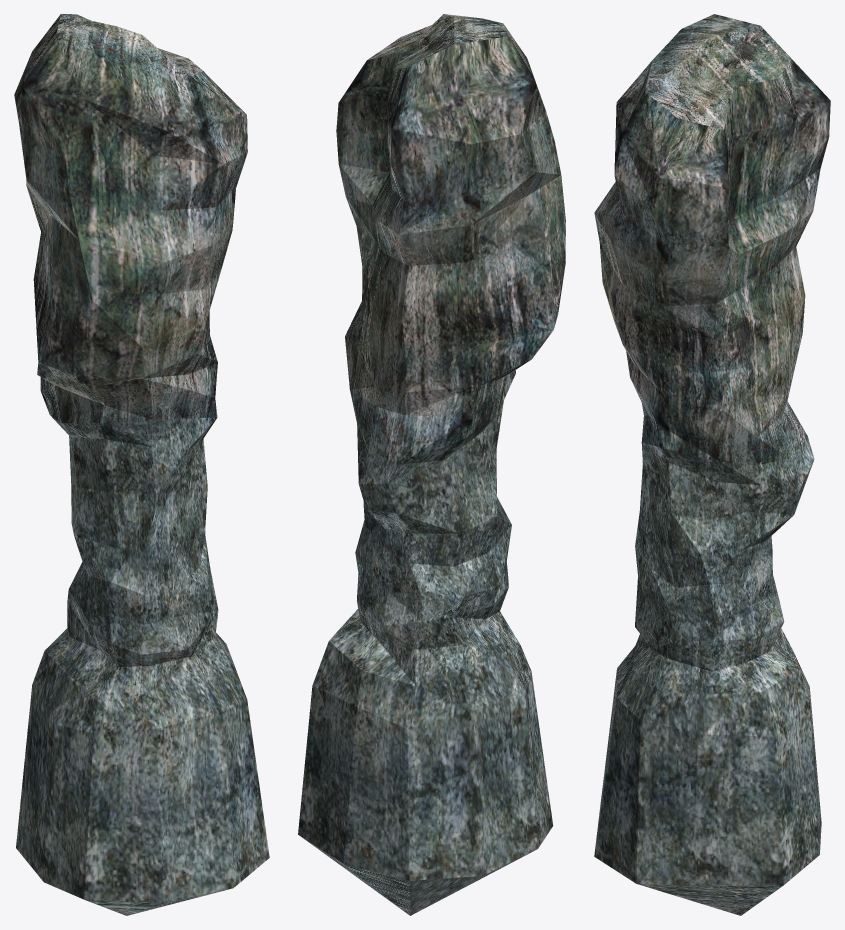
File: rock_dath_desertspire_l0.fbx
3 views of the same model, side by side, from view 1: azimuth 30°, elevation 25°; view 2: azimuth 150°, elevation 25°; view 3: azimuth 270°, elevation 25° (orthographic). The views are drawn at different scales.
Visible parts, largest first — view 1: mesh_node; view 2: mesh_node; view 3: mesh_node.
Part boxes in pixels (<box>): mesh_node: <box>14,14,269,915</box>; mesh_node: <box>298,14,565,915</box>; mesh_node: <box>594,14,830,915</box>.
Bounding box in the file's own units: 17.94 × 74.48 × 18.45.
